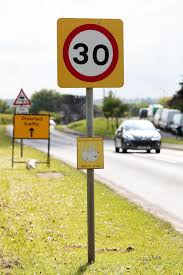sp30: (66, 19, 123, 89)
